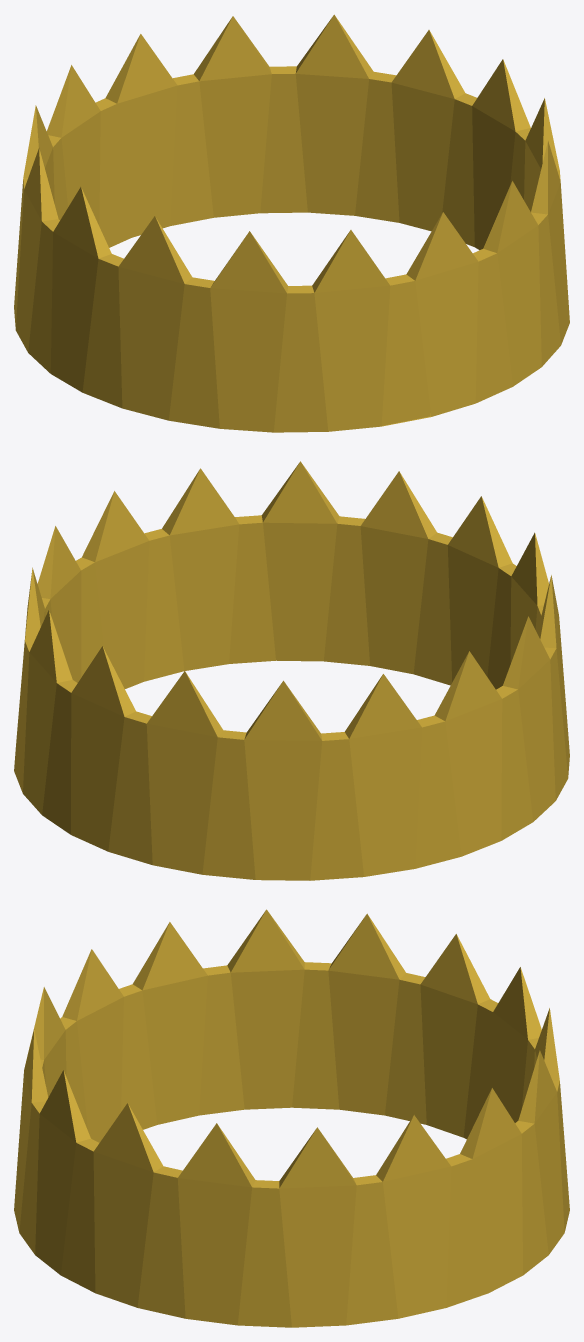
The model's file is Crown.fbx.
3 views of the same model, one above another, from view 1: azimuth 30°, elevation 25°; view 2: azimuth 150°, elevation 25°; view 3: azimuth 270°, elevation 25° (orthographic).
Visible parts, largest first — view 1: Circle; view 2: Circle; view 3: Circle.
Boxes of the visible parts, x1,y1,x2,y2 form: Circle: (14, 14, 569, 432); Circle: (14, 461, 569, 880); Circle: (14, 909, 569, 1327).
Size of the model in its own units: 2.29 by 0.8738 by 2.29.
